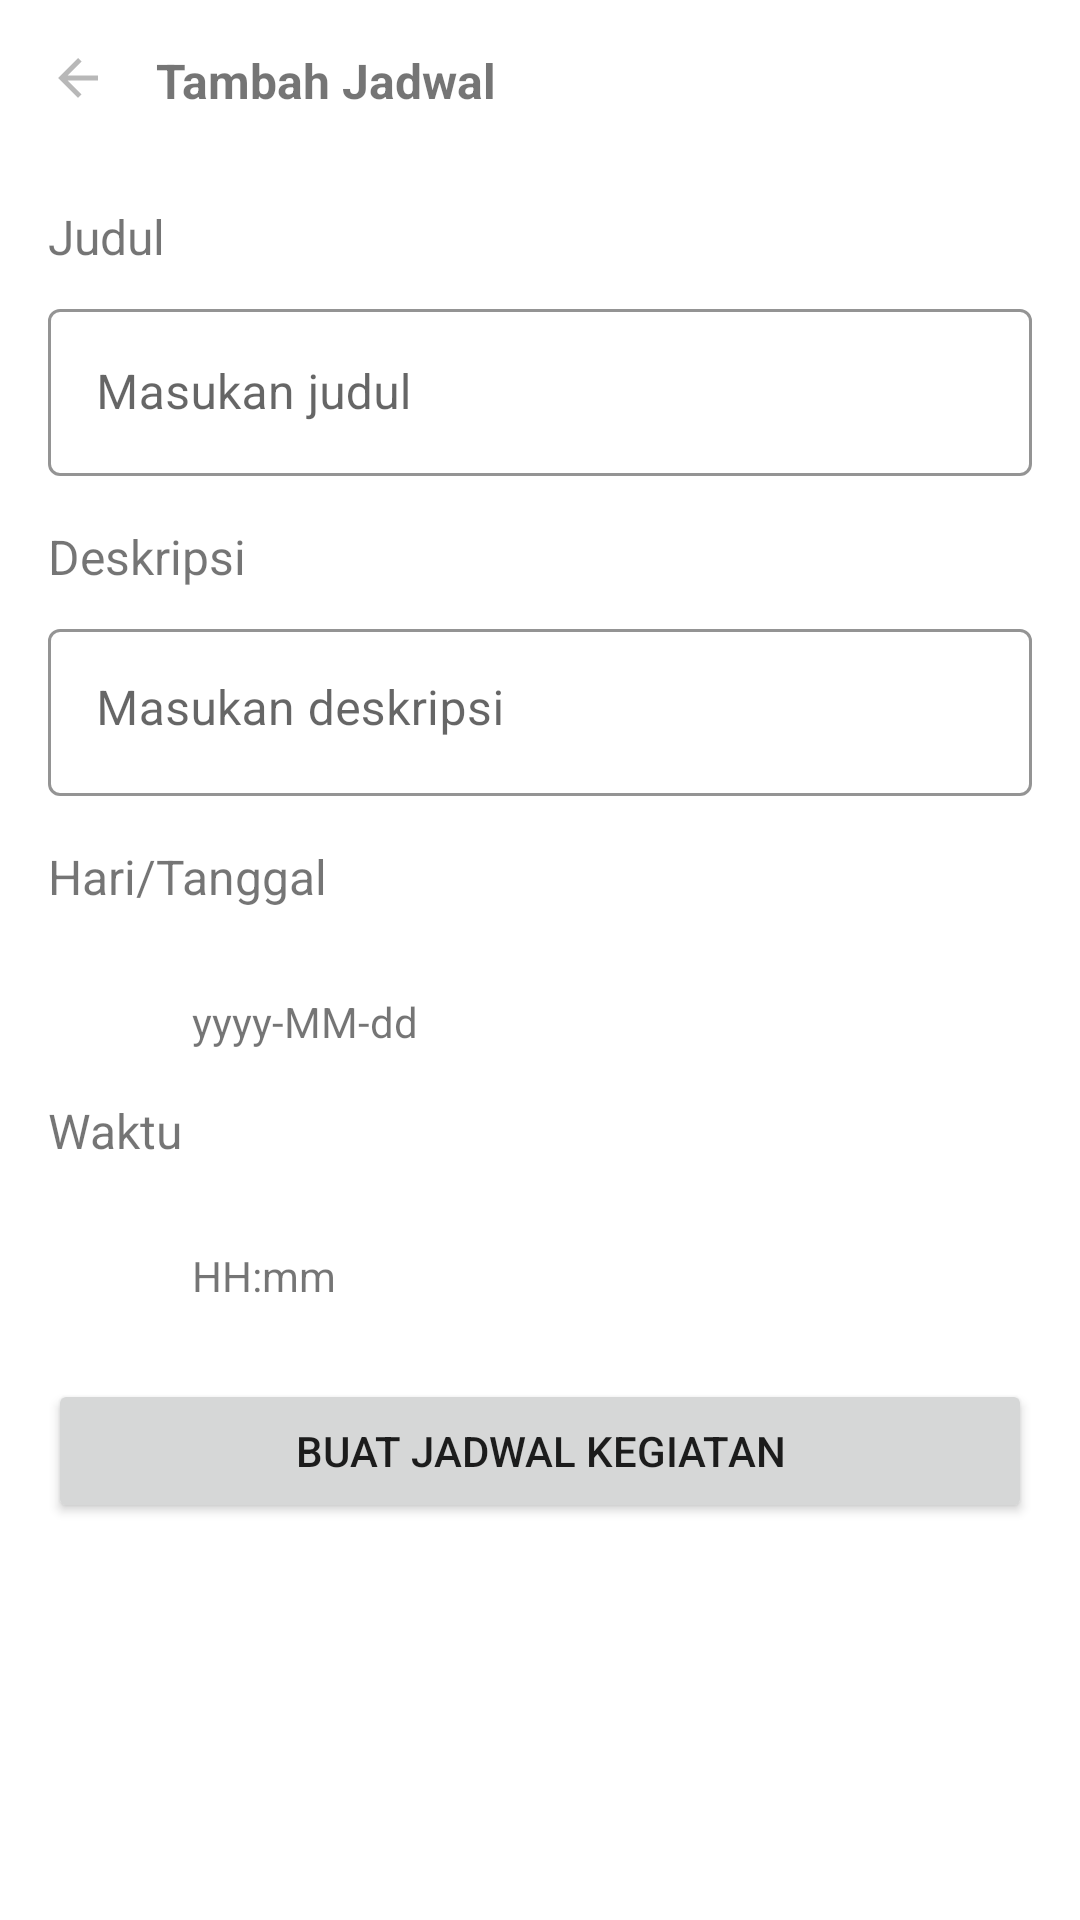

Icons on this 1080×1920 Android screen, each with the point to tap as [x,y]:
arrow back: [78,78]
